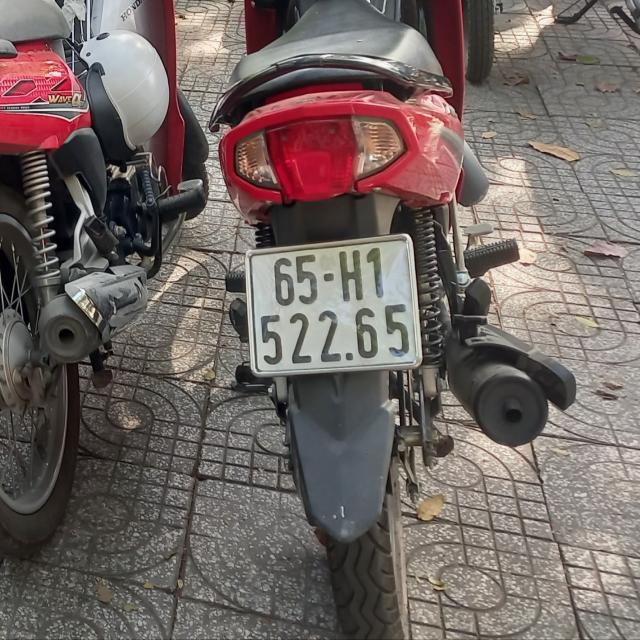1: (365, 245, 385, 299)
3: (318, 309, 342, 364), (288, 312, 312, 364)
5: (383, 301, 412, 359), (260, 313, 283, 368), (295, 254, 318, 304)
6: (354, 306, 379, 362), (273, 256, 297, 308)
H: (338, 249, 365, 301)
